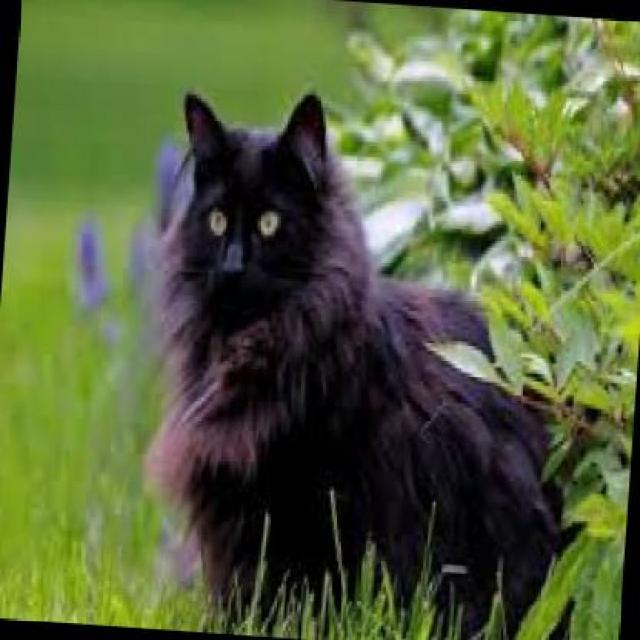animals: (118, 80, 591, 626)
